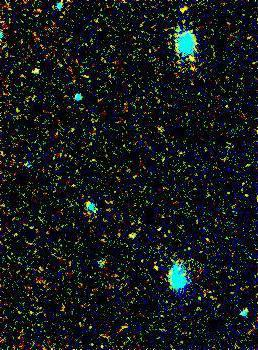star: (167, 0, 197, 25)
